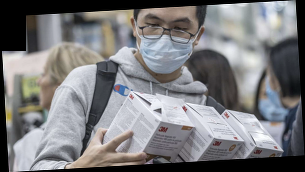with_mask: (137, 11, 199, 76), (257, 85, 288, 123), (265, 64, 285, 111)
without_mask: (35, 66, 57, 113)
